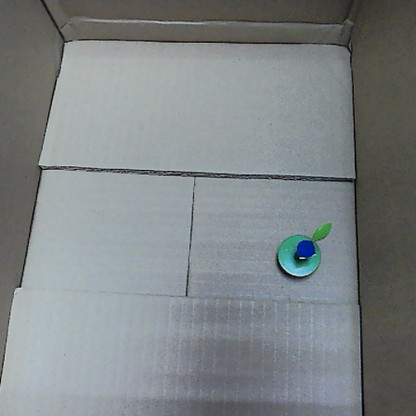leafairy: (274, 218, 330, 281)
